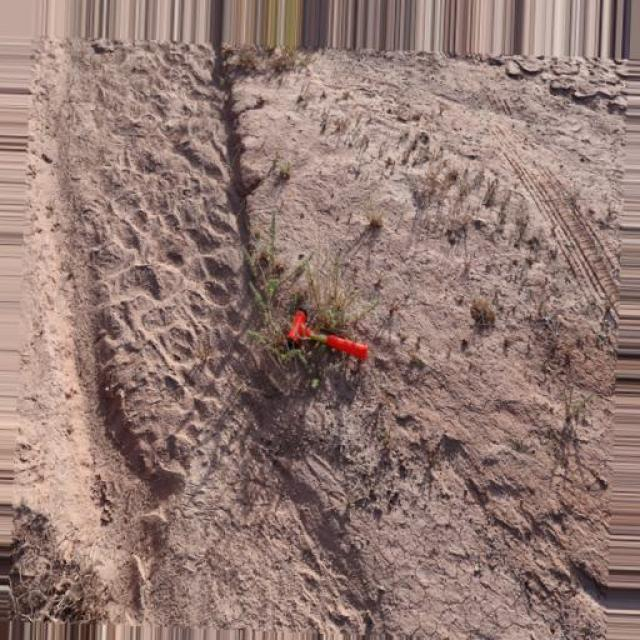mallet: (285, 308, 369, 362)
